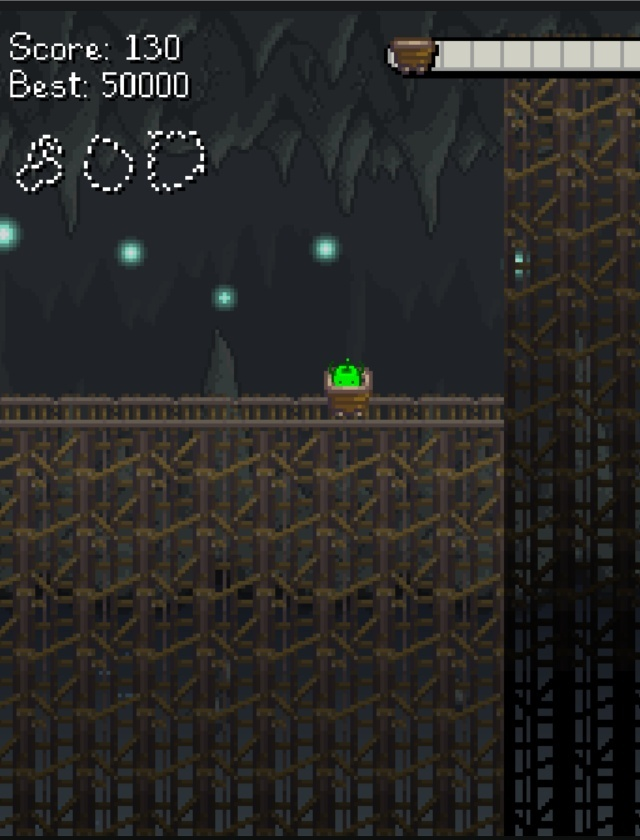minecart: (325, 358, 370, 417)
tracks: (0, 384, 312, 436)
